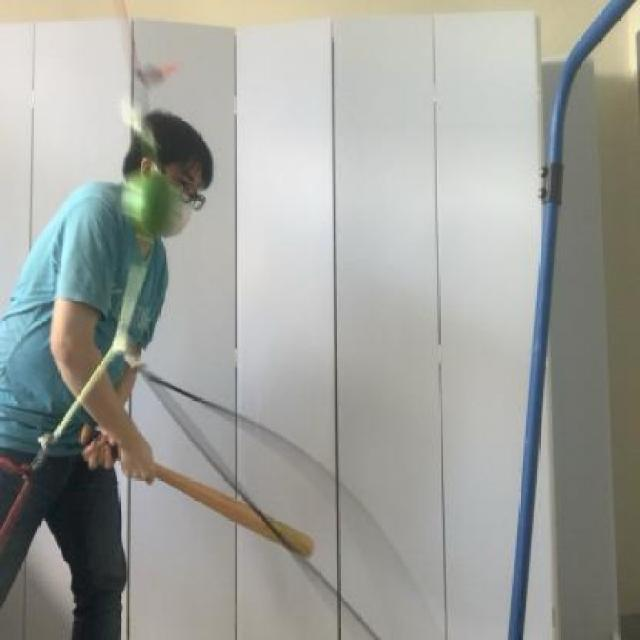baseball: (111, 168, 183, 248)
